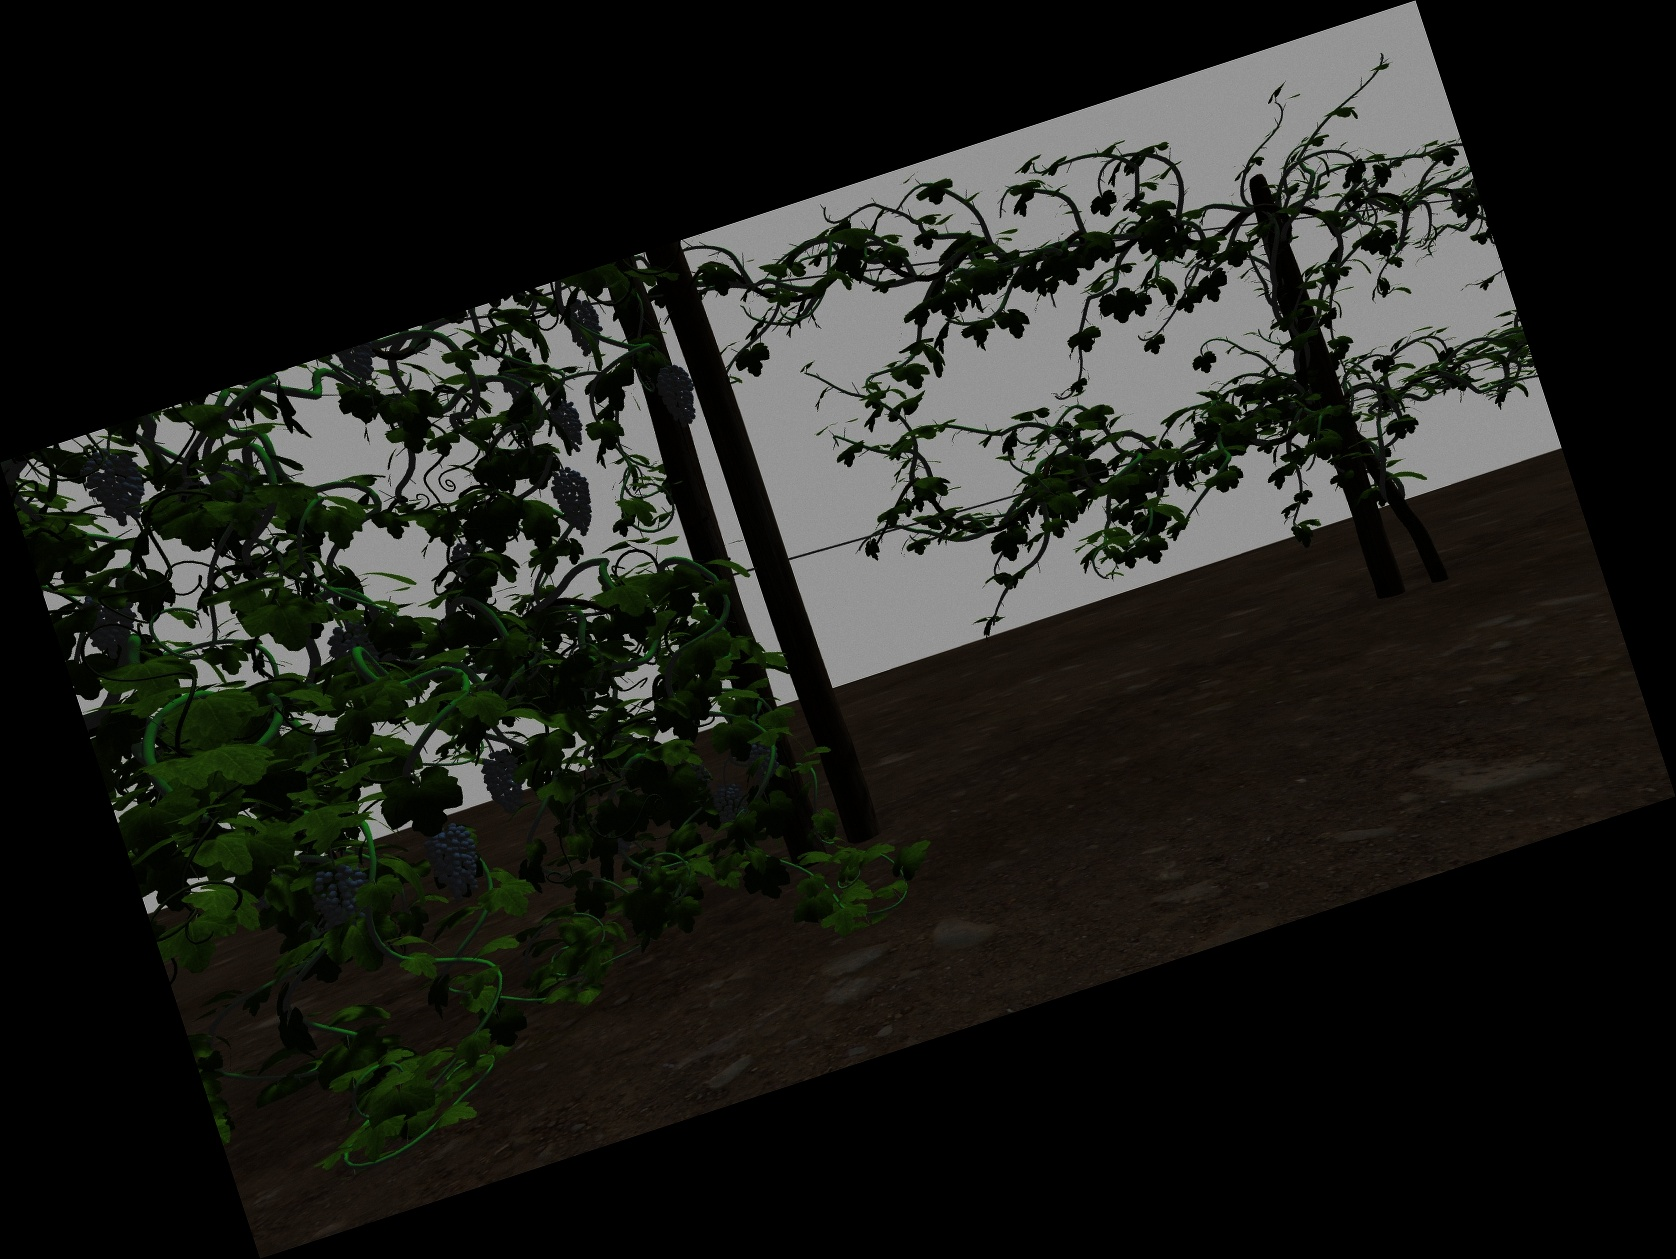grape: (89, 450, 146, 521), (429, 825, 482, 899), (86, 590, 134, 656), (314, 868, 369, 920), (483, 749, 525, 811), (659, 361, 696, 427), (558, 468, 593, 536), (567, 300, 602, 354), (554, 402, 587, 456), (328, 623, 370, 663), (714, 786, 745, 825), (343, 350, 377, 384), (750, 743, 779, 779)
